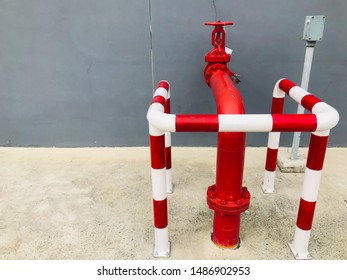FireHydrant: (117, 14, 337, 258)
